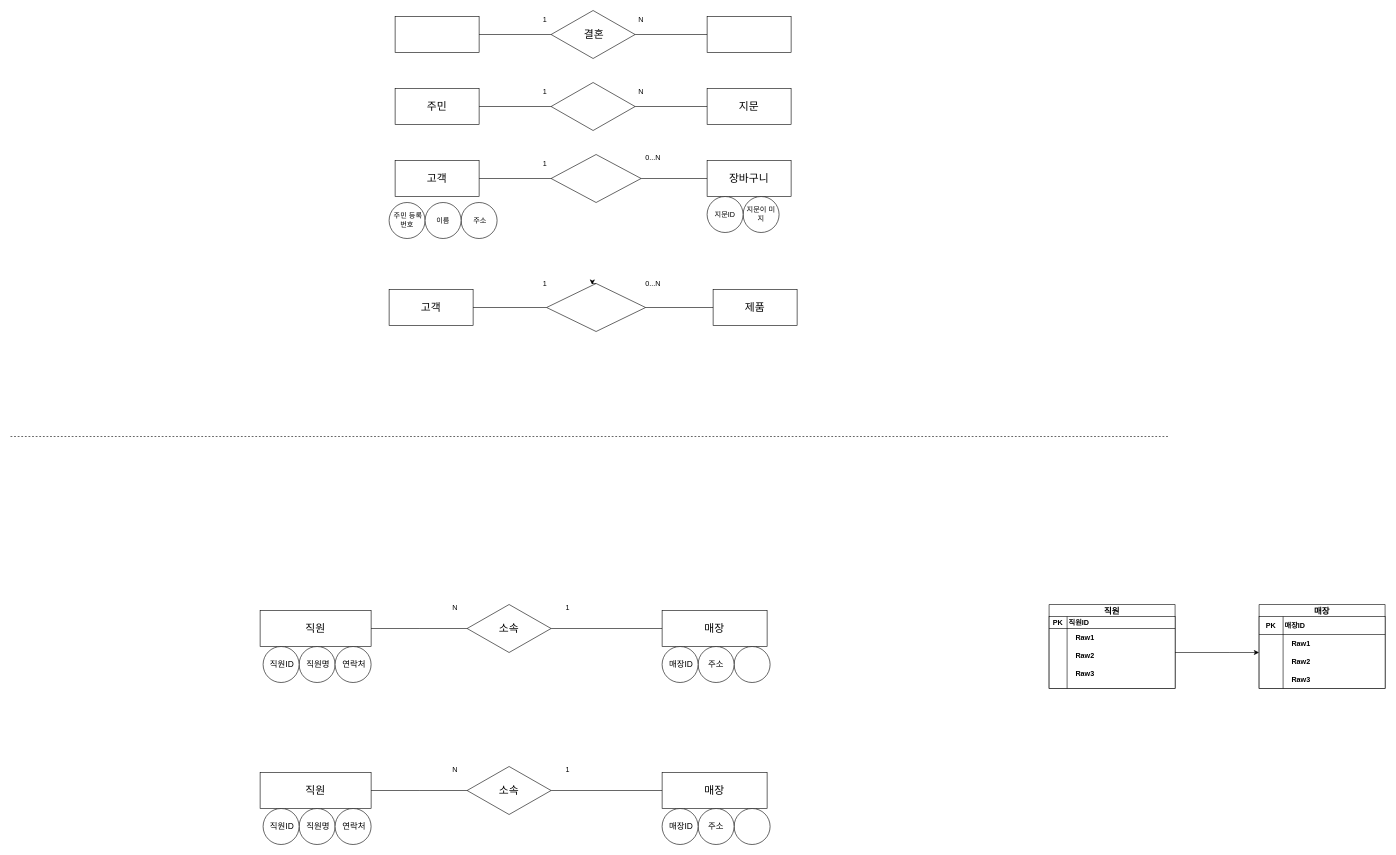
Image size: 1396x855. Some labels were removed from this diagram. Each missing label, with the box of its shape:
남자: (394, 16, 479, 52)
등록: (550, 82, 635, 130)
여자: (706, 16, 791, 52)
임시보관: (550, 154, 641, 202)
